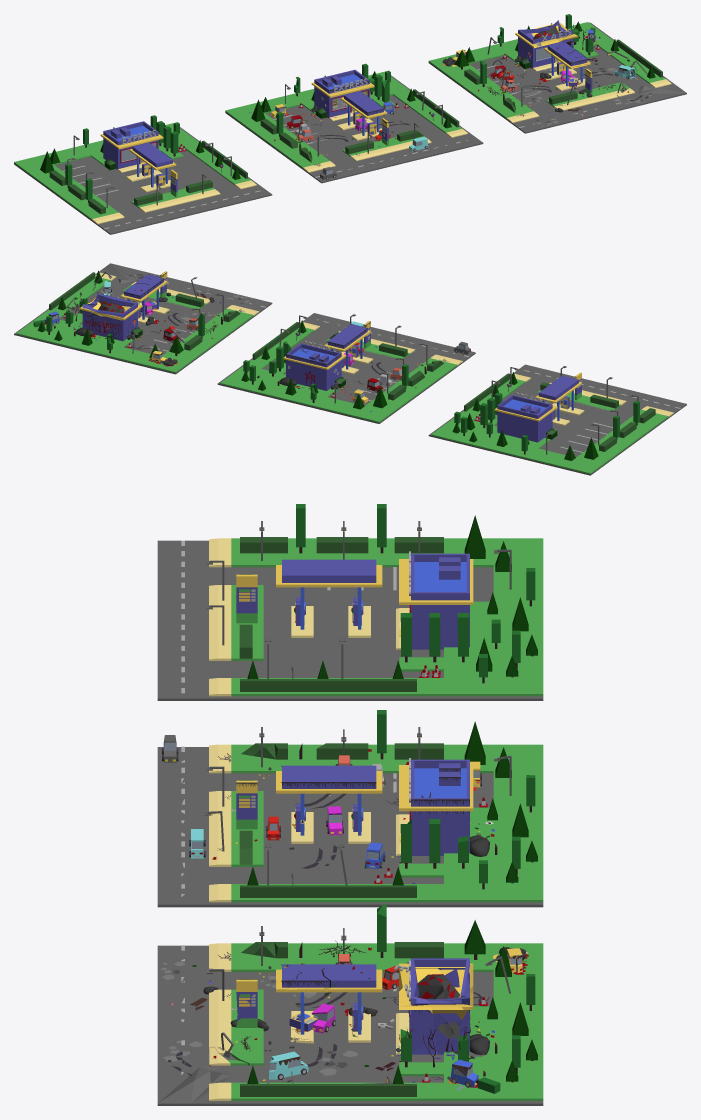
The model's file is gas_station.glb.
3 renders of one model, top to bottom at view 1: azimuth 30°, elevation 25°; view 2: azimuth 150°, elevation 25°; view 3: azimuth 270°, elevation 25°, orthographic. The views are drawn at different scales.
Visible parts, largest first — view 1: 1_gray_0, 3_gray_0, 2_gray_0, 3_green_0, 2_green_0, 1_green_0, 1_blue_base_0, 2_blue_base_0, 3_blue_base_0, 1_plants_0, 2_plants_0, 1_besh_0 (+24 smaller); view 2: 1_gray_0, 3_gray_0, 3_green_0, 2_green_0, 2_gray_0, 1_green_0, 1_blue_base_0, 2_blue_base_0, 3_blue_base_0, 1_plants_0, 2_plants_0, 1_trees_0 (+23 smaller); view 3: 1_gray_0, 2_gray_0, 3_gray_0, 2_green_0, 1_green_0, 3_green_0, 3_blue_base_0, 2_blue_base_0, 1_blue_base_0, 1_plants_0, 2_plants_0, 2_besh_0 (+20 smaller).
Boxes of the visible parts, left/top/right/bottom form: 1_gray_0: left=14, top=127, right=272, bottom=234; 3_gray_0: left=428, top=22, right=686, bottom=133; 2_gray_0: left=225, top=75, right=483, bottom=183; 3_green_0: left=428, top=22, right=665, bottom=118; 2_green_0: left=225, top=71, right=461, bottom=168; 1_green_0: left=14, top=123, right=250, bottom=219; 1_blue_base_0: left=103, top=121, right=177, bottom=192; 2_blue_base_0: left=314, top=69, right=399, bottom=140; 3_blue_base_0: left=518, top=20, right=602, bottom=113; 1_plants_0: left=49, top=140, right=247, bottom=214; 2_plants_0: left=260, top=89, right=459, bottom=162; 1_besh_0: left=92, top=164, right=256, bottom=224; 1_gray_0: left=428, top=364, right=686, bottom=475; 3_gray_0: left=14, top=263, right=272, bottom=374; 3_green_0: left=16, top=276, right=253, bottom=373; 2_green_0: left=220, top=327, right=457, bottom=422; 2_gray_0: left=217, top=313, right=475, bottom=423; 1_green_0: left=431, top=379, right=668, bottom=474; 1_blue_base_0: left=497, top=375, right=581, bottom=442; 2_blue_base_0: left=286, top=324, right=390, bottom=391; 3_blue_base_0: left=78, top=274, right=221, bottom=342; 1_plants_0: left=464, top=373, right=655, bottom=451; 2_plants_0: left=252, top=322, right=443, bottom=400; 1_trees_0: left=454, top=392, right=639, bottom=451; 1_gray_0: left=157, top=540, right=543, bottom=700; 2_gray_0: left=157, top=747, right=543, bottom=907; 3_gray_0: left=157, top=945, right=543, bottom=1105; 2_green_0: left=231, top=744, right=543, bottom=902; 1_green_0: left=231, top=538, right=543, bottom=696; 3_green_0: left=227, top=943, right=543, bottom=1100; 3_blue_base_0: left=208, top=958, right=469, bottom=1082; 2_blue_base_0: left=236, top=759, right=469, bottom=883; 1_blue_base_0: left=236, top=553, right=469, bottom=649; 1_plants_0: left=239, top=537, right=443, bottom=691; 2_plants_0: left=239, top=743, right=443, bottom=897; 2_besh_0: left=209, top=744, right=409, bottom=902.
Bounding box in the file's own units: 44.19 × 2.41 × 12.8.
33 materials, 3 textured.
